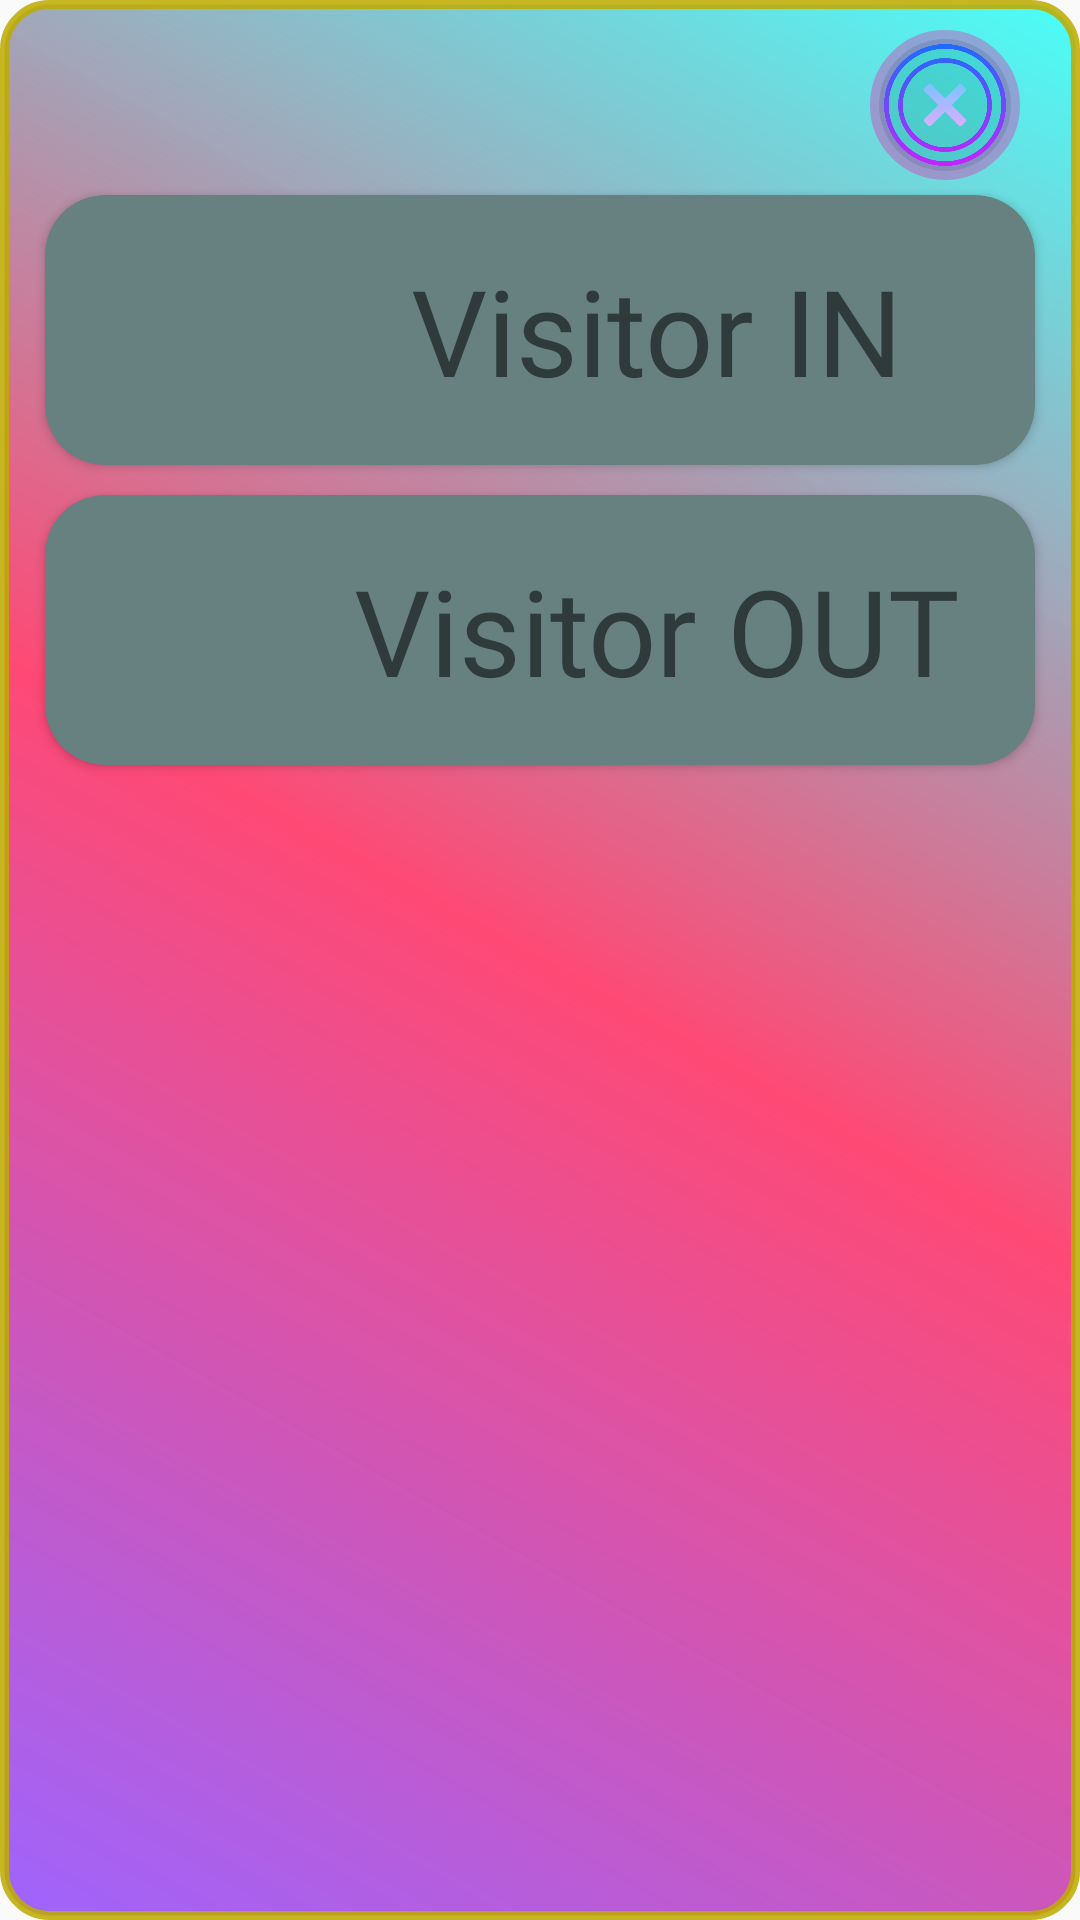

Icon bounding boxes for this 1080w x 1920h phone screenshot, format (x1, y1, x2, y2):
cencel: (870, 30, 1020, 180)
